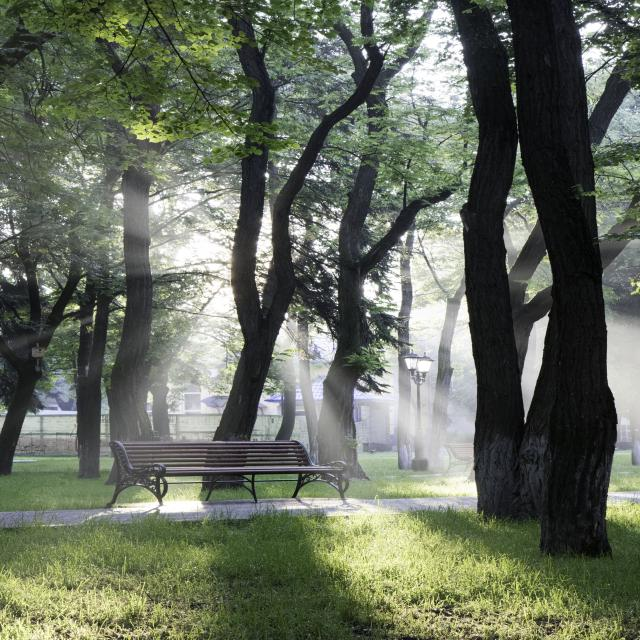chair: (97, 426, 354, 508)
tree: (462, 8, 640, 564), (196, 41, 304, 482), (302, 53, 410, 478), (101, 33, 192, 510), (39, 20, 128, 480)
